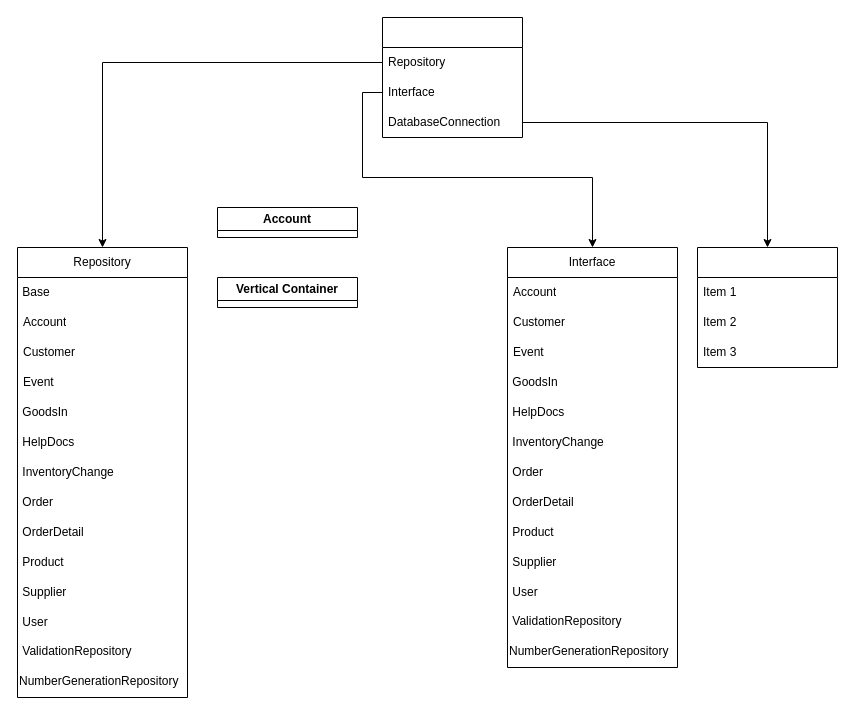
Some shapes in this 855 by 715 pixel diagram are drawn without their labels. Here are the shapes that lost their labels. From the top down, the box of each, then its label:
(382, 16, 522, 138): DataAccess
(696, 246, 838, 368): DbConnection
